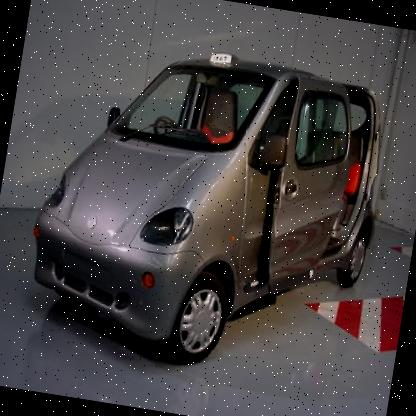car: (7, 18, 403, 390)
